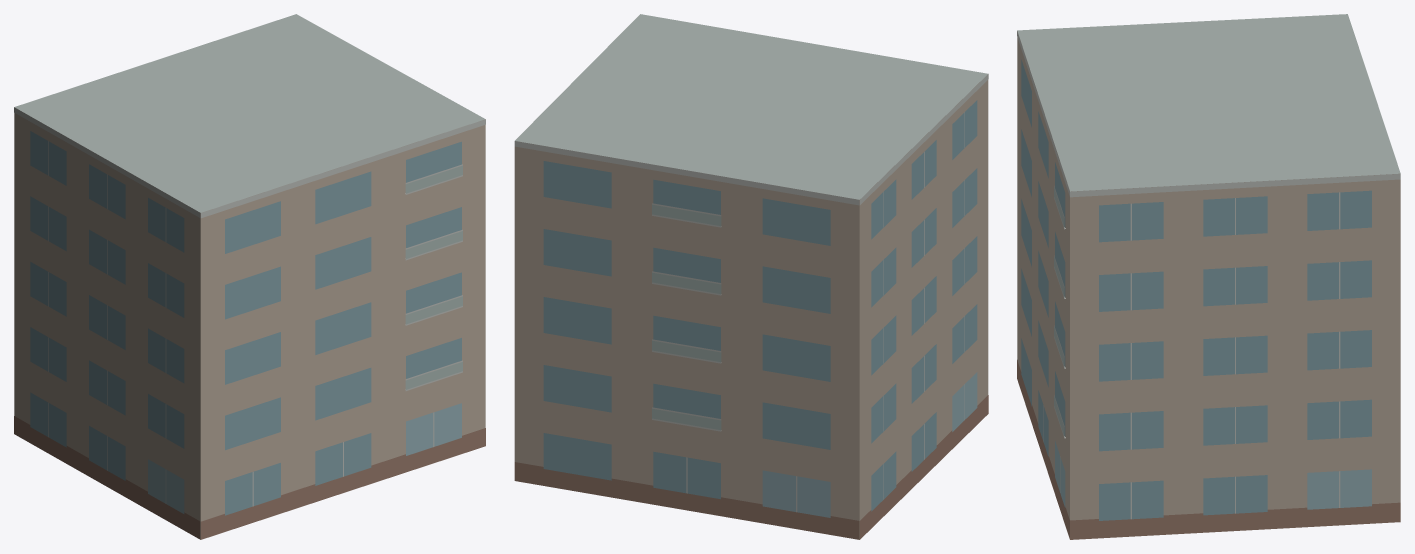
File: survey-upis-32740485.glb
3 views of the same model, side by side, from view 1: azimuth 30°, elevation 25°; view 2: azimuth 150°, elevation 25°; view 3: azimuth 270°, elevation 25° (orthographic). The views are drawn at different scales.
Parts seen in each view (by area): view 1: survey-upis-32740485.tmp; view 2: survey-upis-32740485.tmp; view 3: survey-upis-32740485.tmp.
Part boxes in pixels (bbox=[...]): survey-upis-32740485.tmp: bbox=[14, 14, 485, 539]; survey-upis-32740485.tmp: bbox=[514, 14, 988, 539]; survey-upis-32740485.tmp: bbox=[1017, 14, 1400, 539].
Size of the model in its own units: 15.96 by 14.6 by 14.58.
